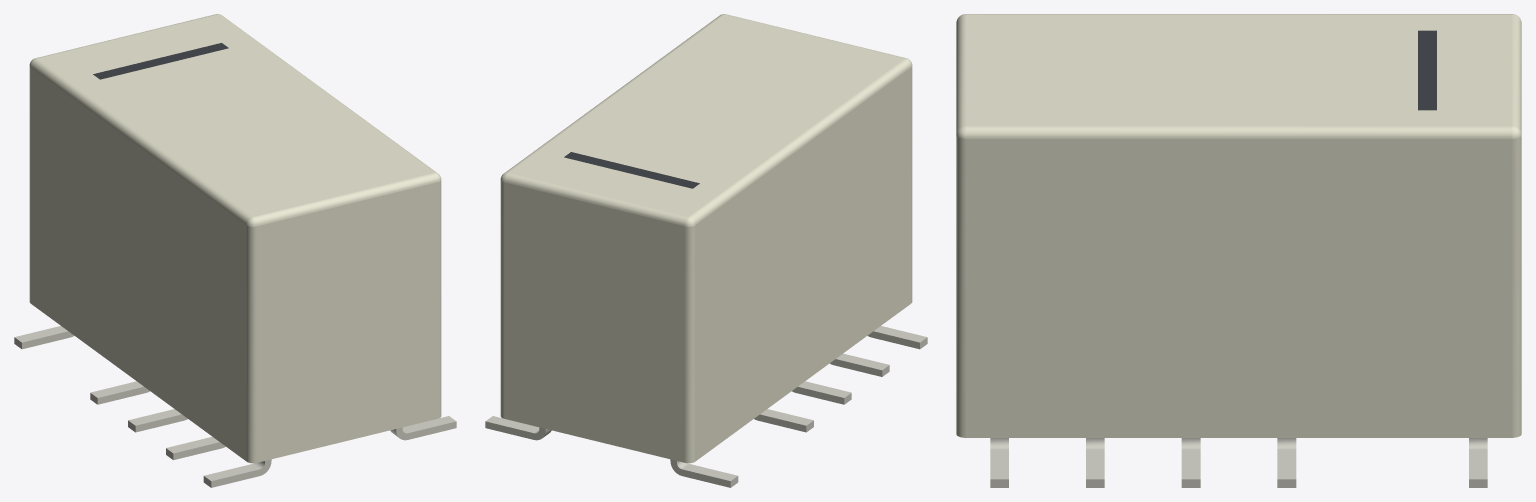
File: kc-relay_dpdt_kemet_ee2_nu_doublecoil.glb
3 renders of one model, left to right at view 1: azimuth 30°, elevation 25°; view 2: azimuth 150°, elevation 25°; view 3: azimuth 270°, elevation 25°, orthographic. The views are drawn at different scales.
Visible parts, largest first — view 1: 0.75_0.75_0.6666666666666666_0, 0.6666666666666666_0.6666666666666666_0.5833333333333334_0.8, 0.08333333333333333_0.08333333333333333_0.08333333333333333_; view 2: 0.75_0.75_0.6666666666666666_0, 0.6666666666666666_0.6666666666666666_0.5833333333333334_0.8, 0.08333333333333333_0.08333333333333333_0.08333333333333333_; view 3: 0.75_0.75_0.6666666666666666_0, 0.6666666666666666_0.6666666666666666_0.5833333333333334_0.8, 0.08333333333333333_0.08333333333333333_0.08333333333333333_.
Boxes of the visible parts, bbox=[...] form: 0.75_0.75_0.6666666666666666_0: bbox=[29, 14, 441, 463]; 0.6666666666666666_0.6666666666666666_0.5833333333333334_0.8: bbox=[14, 326, 456, 487]; 0.08333333333333333_0.08333333333333333_0.08333333333333333_: bbox=[93, 43, 228, 79]; 0.75_0.75_0.6666666666666666_0: bbox=[500, 14, 912, 463]; 0.6666666666666666_0.6666666666666666_0.5833333333333334_0.8: bbox=[485, 326, 927, 487]; 0.08333333333333333_0.08333333333333333_0.08333333333333333_: bbox=[564, 152, 699, 188]; 0.75_0.75_0.6666666666666666_0: bbox=[956, 14, 1521, 437]; 0.6666666666666666_0.6666666666666666_0.5833333333333334_0.8: bbox=[990, 438, 1487, 487]; 0.08333333333333333_0.08333333333333333_0.08333333333333333_: bbox=[1418, 30, 1436, 110].
Bounding box in the file's own units: 0.95 × 1 × 1.5.
